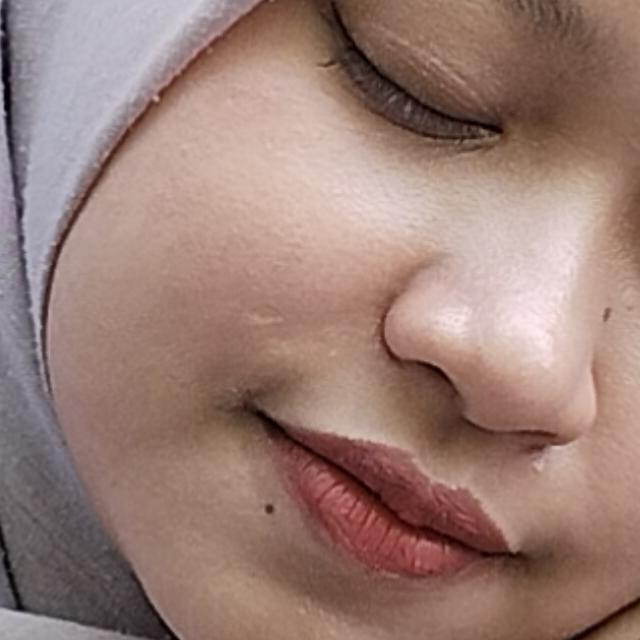tidur: (86, 228, 640, 640)
